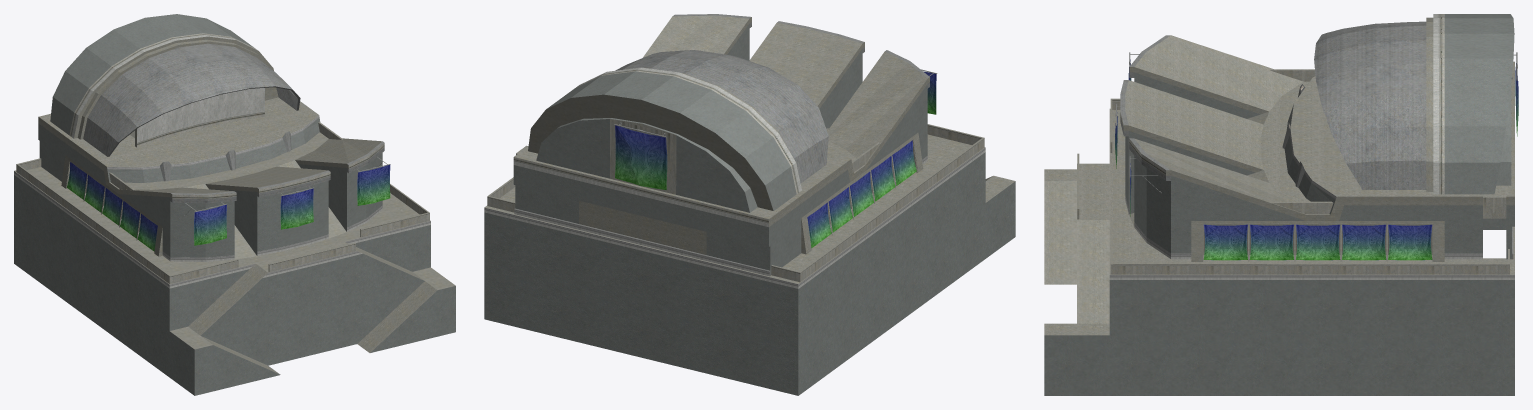
Rendered from ply_corl_theater_s01_r0_exterior_mesh_l0.fbx.
3 views of the same model, side by side, from view 1: azimuth 30°, elevation 25°; view 2: azimuth 150°, elevation 25°; view 3: azimuth 270°, elevation 25° (orthographic). The views are drawn at different scales.
Visible parts, largest first — view 1: mesh_node; view 2: mesh_node; view 3: mesh_node.
Boxes of the visible parts, x1,y1,x2,y2 form: mesh_node: (14,14,455,395); mesh_node: (484,14,1015,395); mesh_node: (1044,14,1518,395).
Size of the model in its own units: 25.6 by 20.05 by 30.91.
